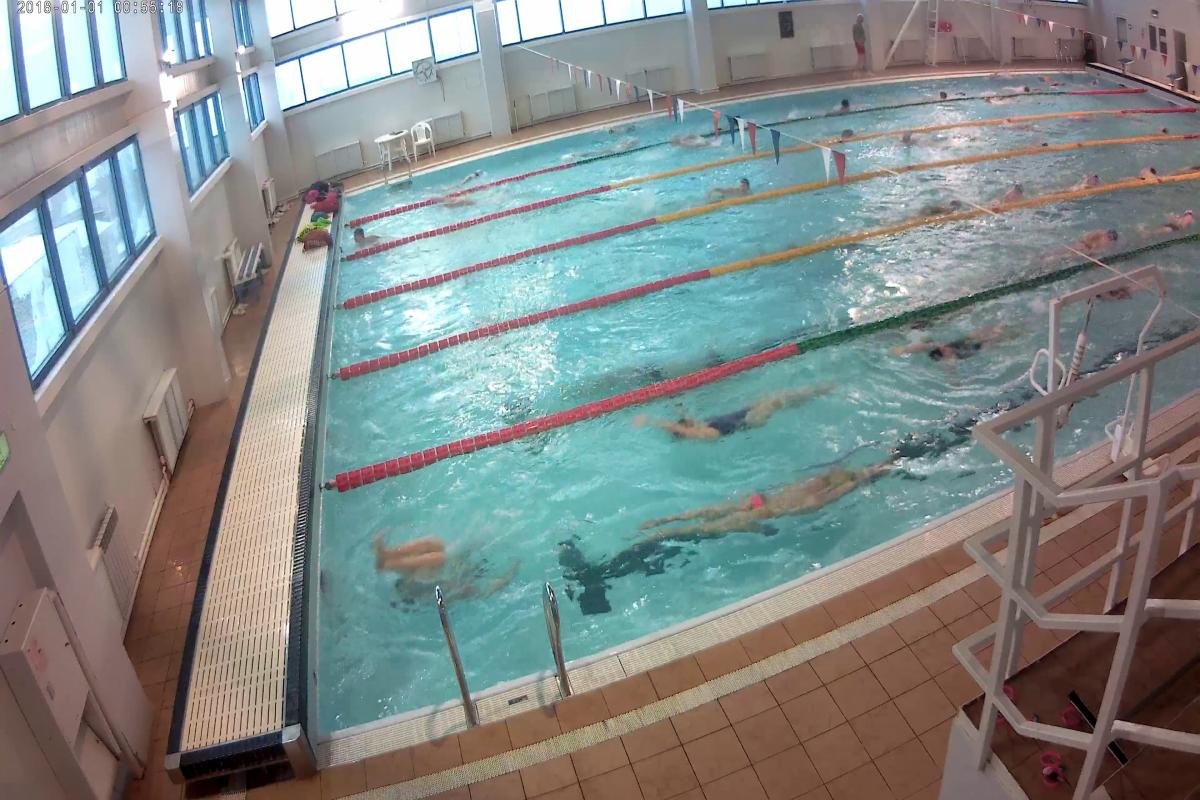swimmer: (658, 461, 873, 540), (367, 527, 523, 609), (634, 373, 819, 442), (884, 311, 1034, 369), (1146, 197, 1198, 242), (1061, 224, 1123, 260), (349, 216, 391, 249), (710, 174, 760, 200), (997, 174, 1036, 202), (1070, 167, 1110, 194), (892, 130, 920, 143)
